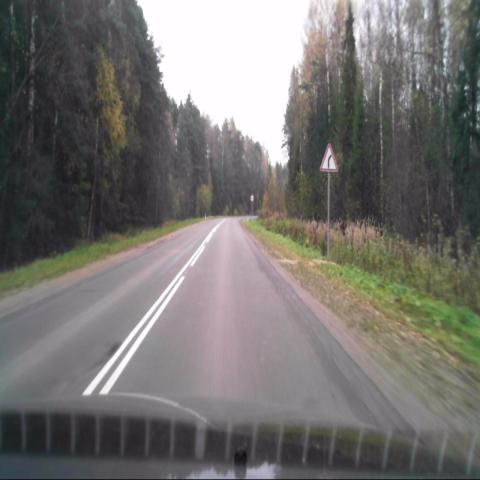1_11: (320, 143, 338, 173)
